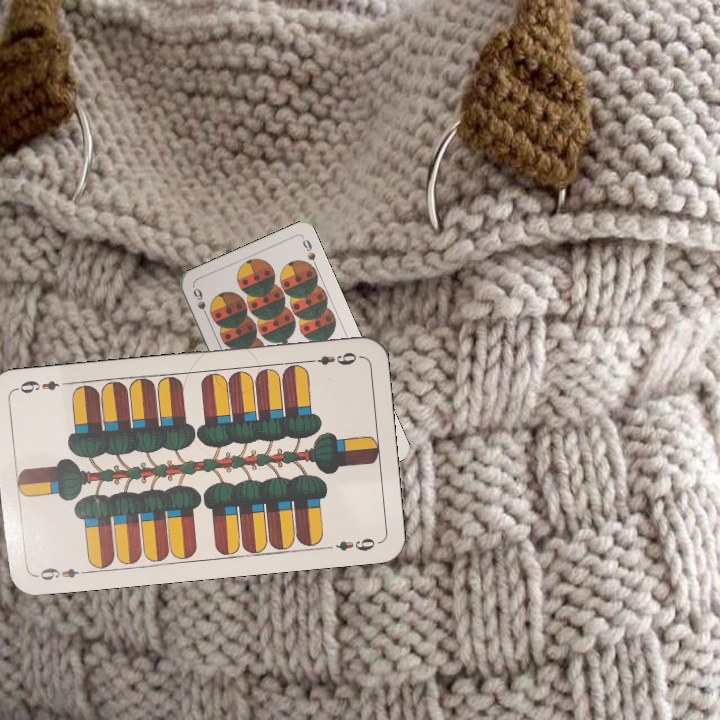E9: (32, 564, 91, 583), (303, 348, 359, 368)
S9: (189, 284, 212, 322)
